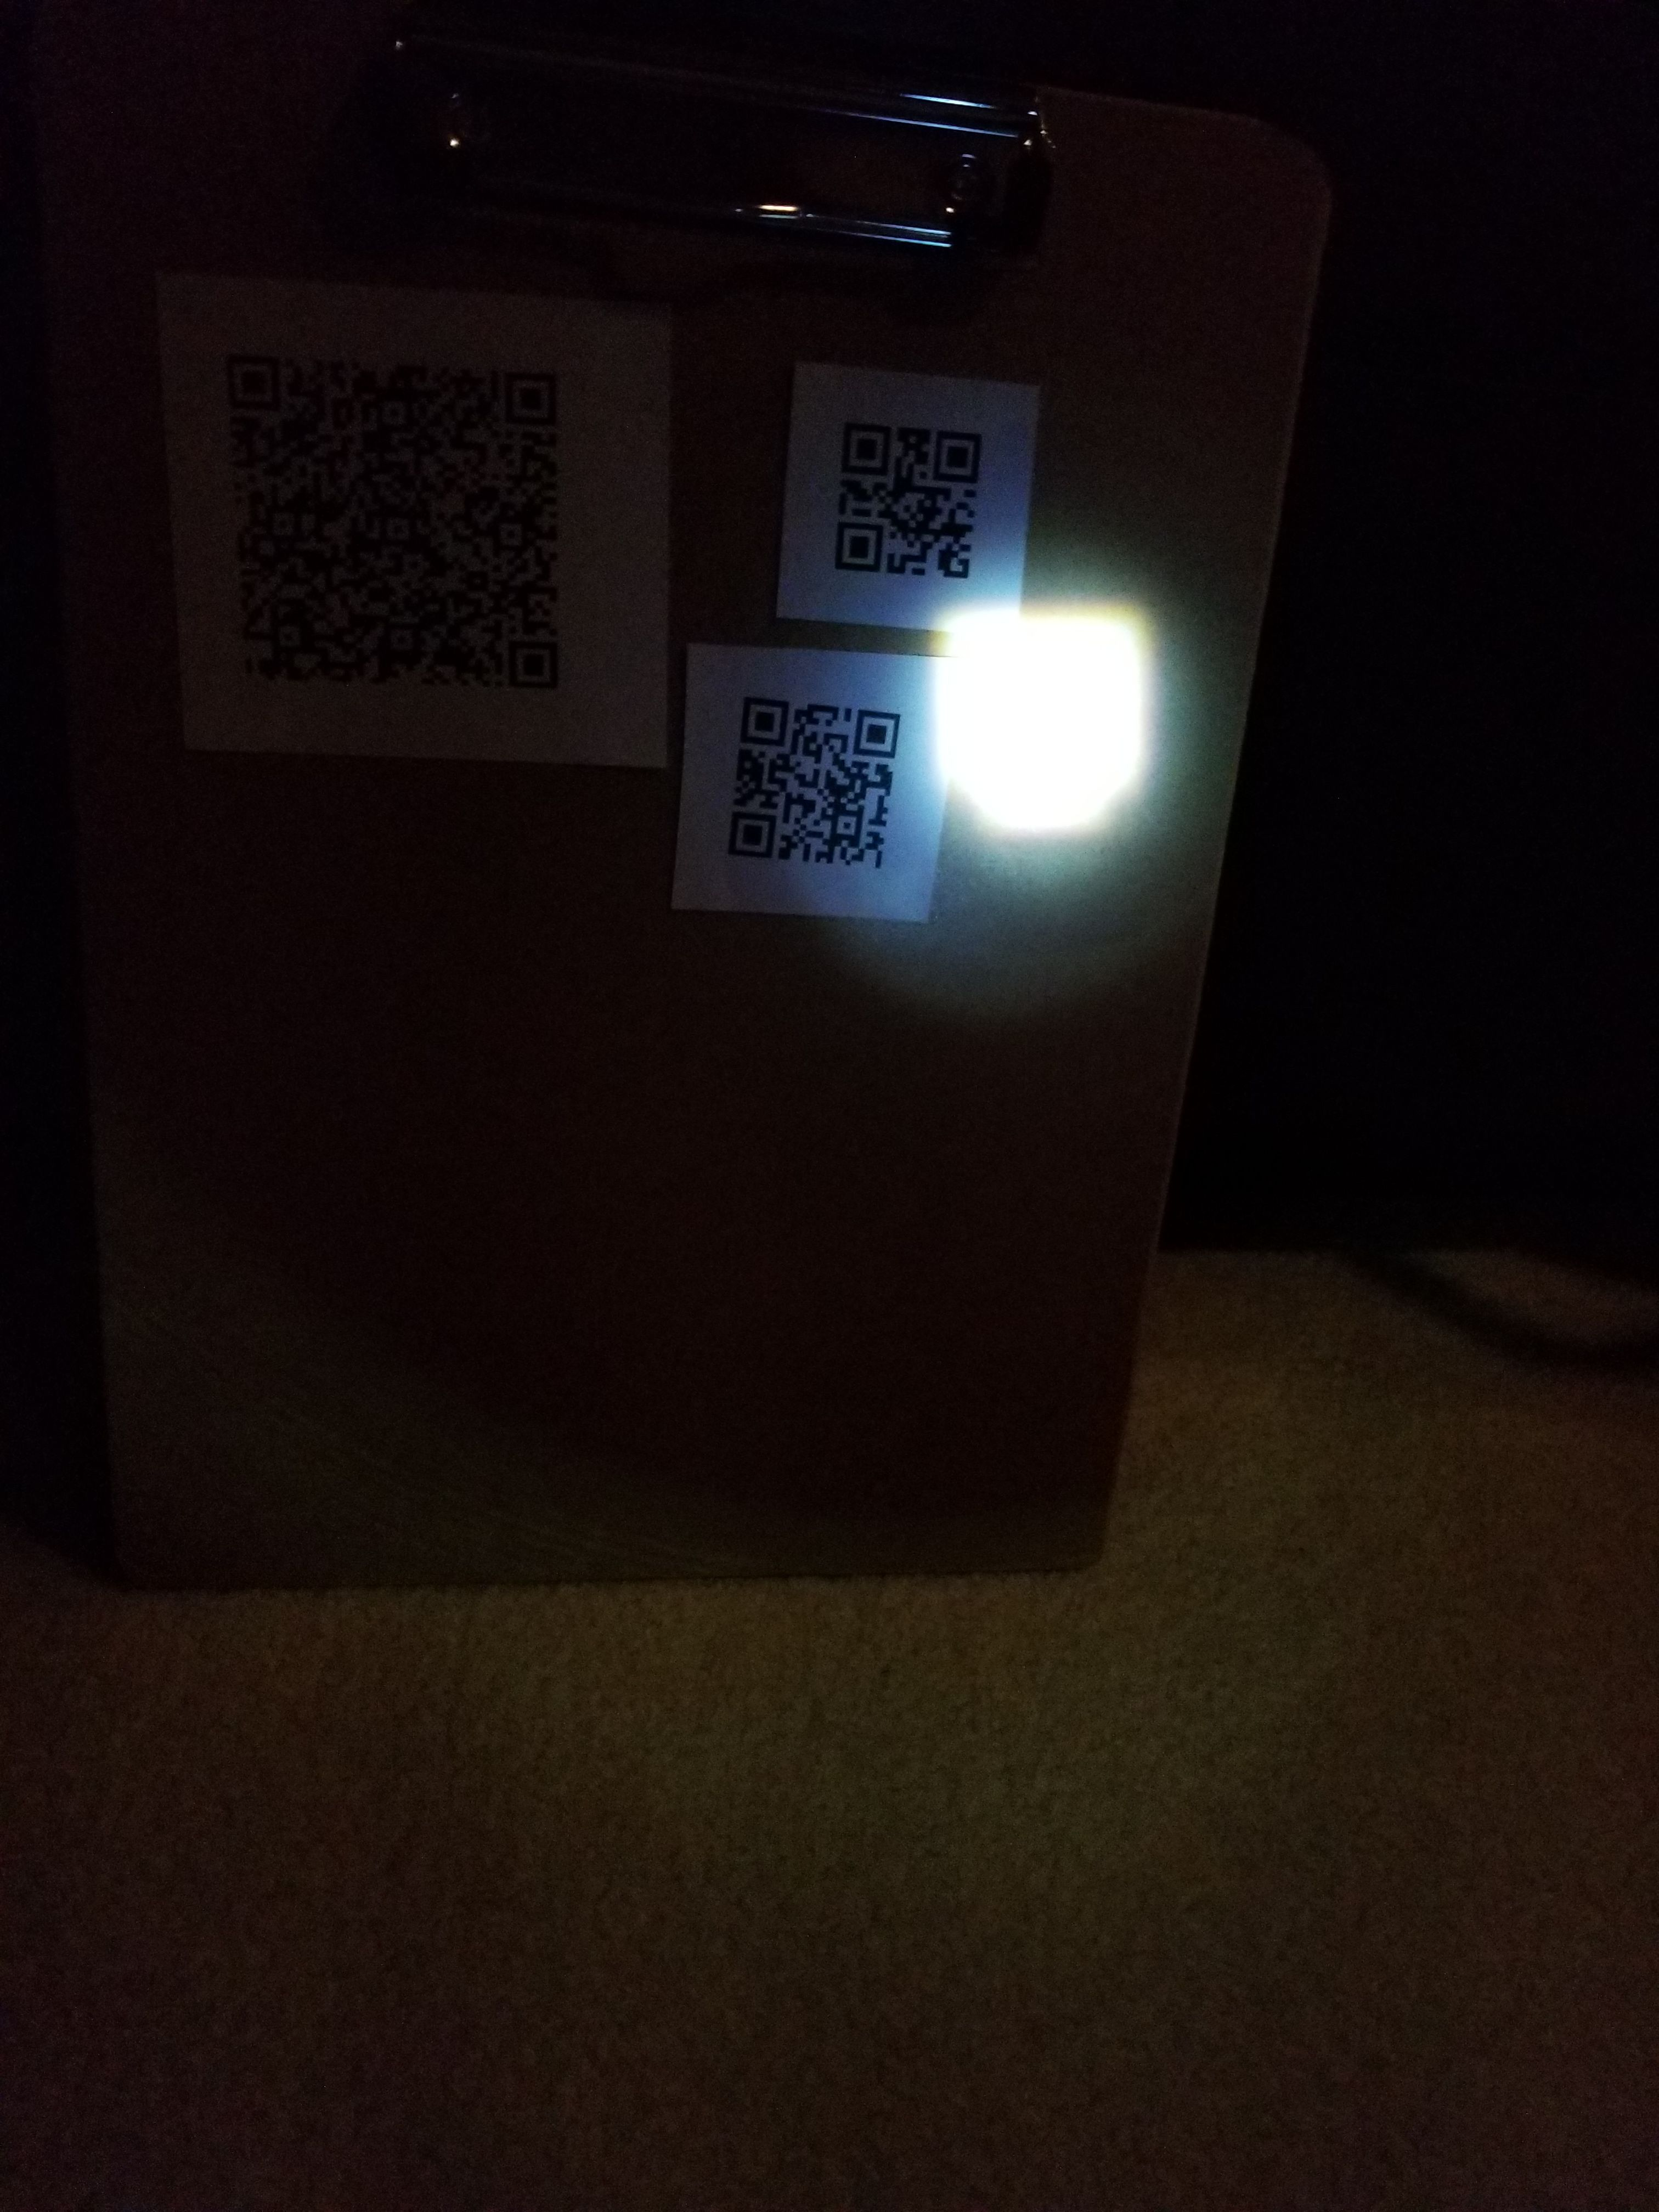QR_CODE: (186, 301, 582, 740), (796, 362, 1014, 618), (708, 669, 931, 897)
